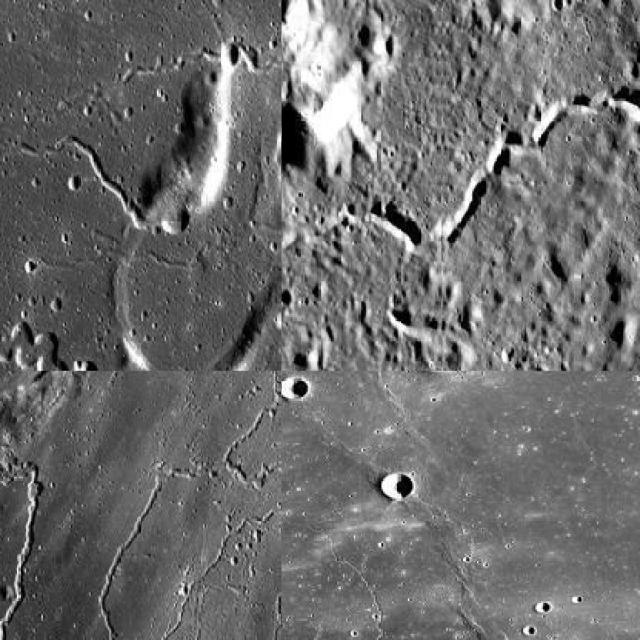rille: (281, 371, 577, 638), (282, 87, 638, 270), (0, 477, 280, 638), (120, 37, 280, 243), (97, 460, 214, 638), (17, 134, 149, 231), (222, 371, 280, 492), (22, 240, 223, 272)
